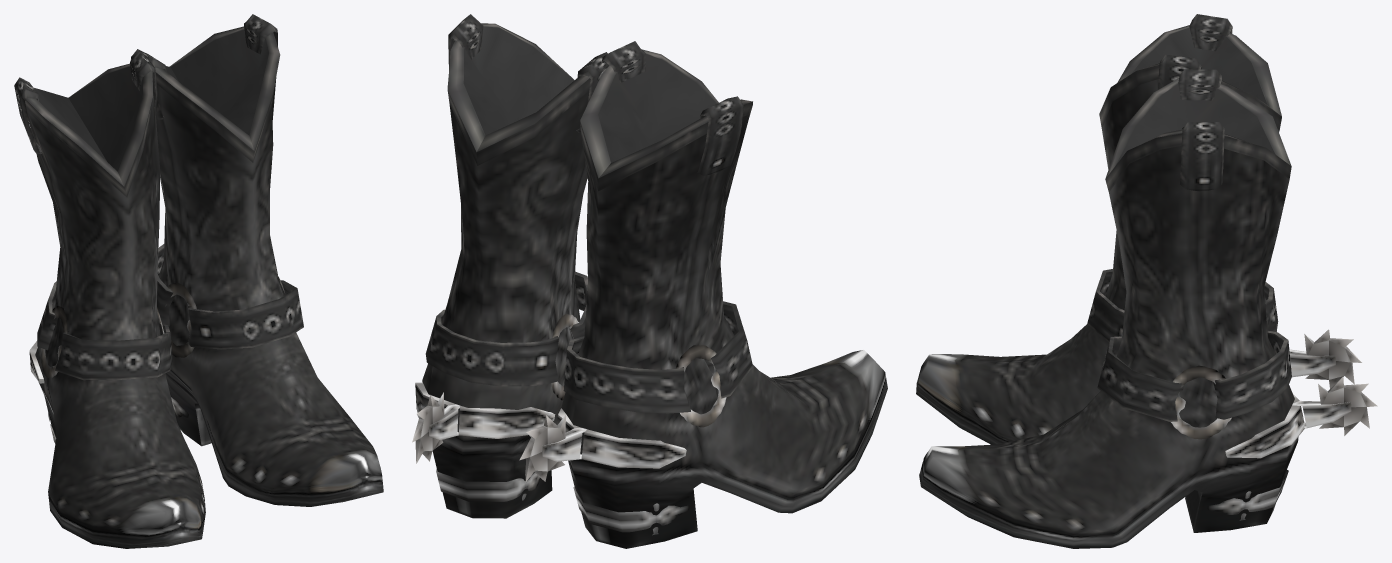
The model's file is Cowboy_Boot_Ground.fbx.
3 views of the same model, side by side, from view 1: azimuth 30°, elevation 25°; view 2: azimuth 150°, elevation 25°; view 3: azimuth 270°, elevation 25° (orthographic). The views are drawn at different scales.
Visible parts, largest first — view 1: Cowboy_Boot; view 2: Cowboy_Boot; view 3: Cowboy_Boot.
Part boxes in pixels (x1,y1,x2,y2): Cowboy_Boot: (14,14,383,548); Cowboy_Boot: (412,14,887,548); Cowboy_Boot: (916,14,1377,548).
Size of the model in its own units: 0.14 by 0.1829 by 0.1853.
